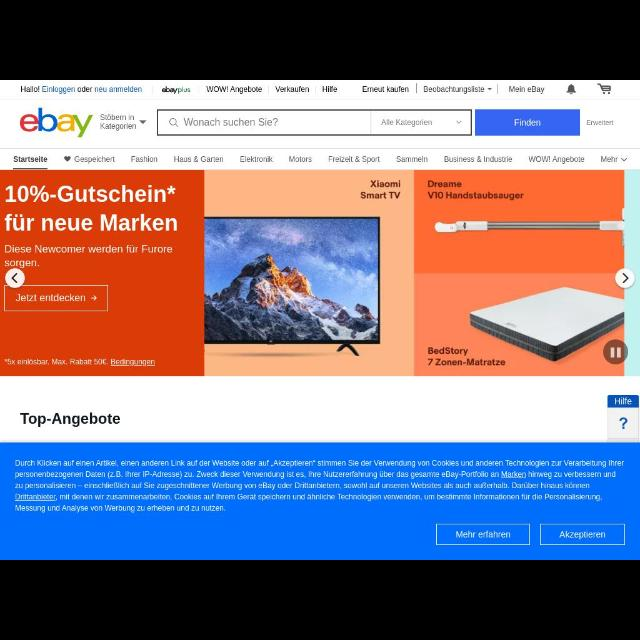button: (609, 408, 639, 438), (601, 339, 629, 365), (614, 267, 636, 291), (3, 268, 25, 288)
icon: (596, 83, 614, 97), (608, 344, 622, 360), (566, 82, 578, 98), (166, 116, 180, 128), (618, 418, 628, 430), (10, 272, 18, 282), (63, 154, 71, 164), (90, 294, 100, 302), (454, 118, 464, 125), (622, 273, 628, 283), (139, 118, 147, 124), (622, 156, 626, 164), (487, 86, 493, 90)
iframe: (1, 443, 639, 559)
image: (413, 171, 625, 375), (205, 171, 413, 375), (19, 106, 95, 142), (159, 86, 193, 94)
input: (158, 111, 372, 135)
multitab: (1, 149, 640, 169)
spinner: (372, 111, 472, 135), (418, 81, 498, 97), (98, 111, 148, 135), (598, 152, 630, 166)
text: (13, 459, 625, 513), (2, 183, 182, 233), (3, 242, 175, 268), (426, 178, 526, 202), (3, 356, 156, 368), (428, 346, 508, 368), (20, 411, 122, 427), (22, 84, 144, 95), (14, 290, 88, 306), (183, 116, 279, 128), (360, 178, 402, 200), (99, 114, 137, 132), (422, 84, 488, 94), (456, 530, 512, 540), (444, 156, 514, 164), (327, 155, 381, 165), (380, 118, 434, 128), (558, 530, 606, 540), (528, 156, 586, 164), (72, 155, 118, 165), (207, 86, 263, 94), (172, 156, 224, 164), (238, 154, 274, 164), (509, 85, 545, 94), (361, 86, 412, 92), (274, 85, 312, 93), (12, 155, 48, 163), (394, 156, 430, 164), (514, 119, 542, 128), (130, 156, 160, 164), (585, 119, 615, 127), (288, 156, 314, 164), (612, 396, 632, 406), (320, 84, 338, 94), (600, 156, 620, 164)
textbutton: (476, 110, 580, 136), (5, 284, 107, 310), (438, 525, 530, 545), (540, 524, 626, 544)
toolbar: (1, 80, 640, 148)
